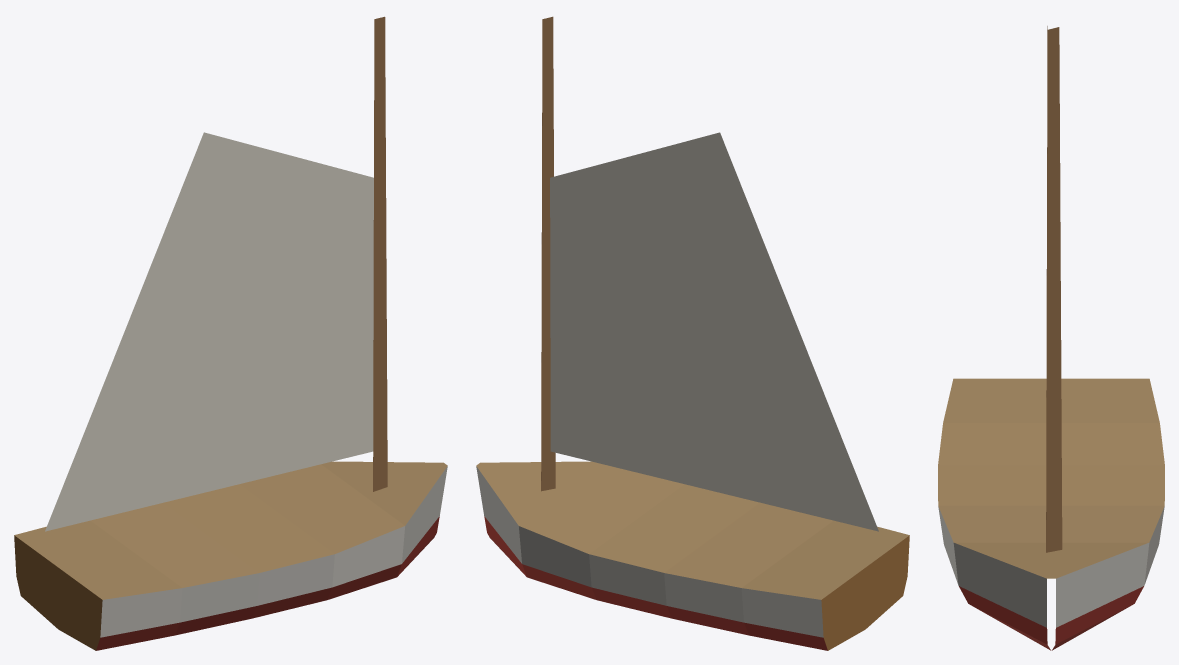
Rendered from hull_usd_cat_skiff_lod.glb.
3 renders of one model, left to right at view 1: azimuth 30°, elevation 25°; view 2: azimuth 150°, elevation 25°; view 3: azimuth 270°, elevation 25°, orthographic. The views are drawn at different scales.
Visible parts, largest first — view 1: lod; view 2: lod; view 3: lod.
Part boxes in pixels (x1=…): lod: x1=14, y1=16, x2=447, y2=650; lod: x1=476, y1=16, x2=909, y2=650; lod: x1=938, y1=26, x2=1164, y2=650.
Bounding box in the file's own units: 5.18 × 6.79 × 2.29.
